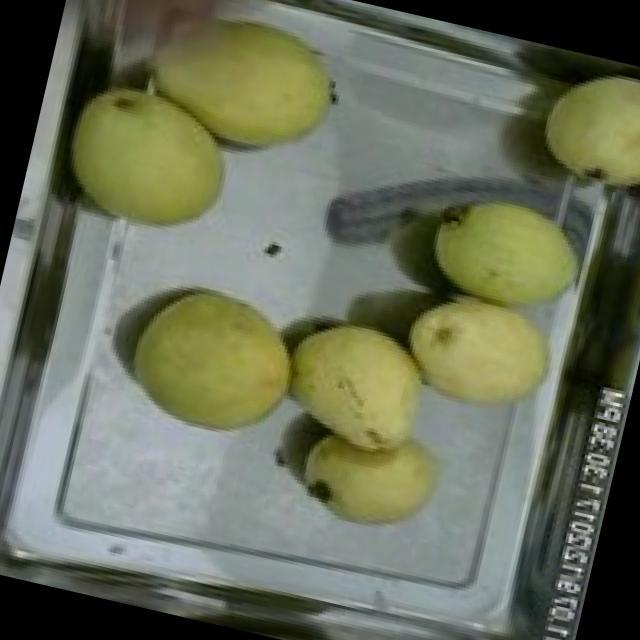Fruit: (83, 0, 372, 181), (45, 58, 250, 253), (114, 260, 318, 452), (378, 271, 575, 435), (408, 172, 605, 334), (267, 298, 445, 470), (523, 49, 640, 211)
